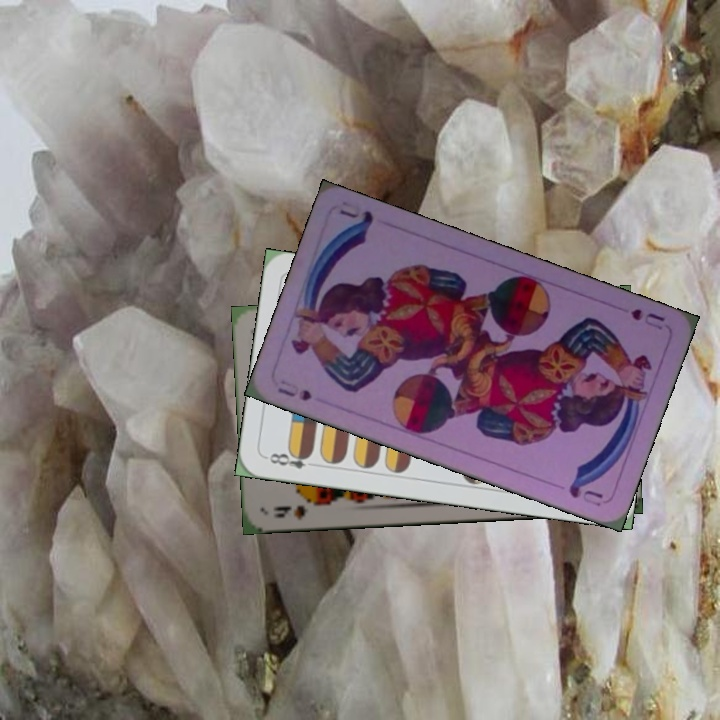E8: (262, 446, 321, 472)
S9: (269, 495, 325, 522)
SU: (626, 304, 668, 333), (273, 376, 314, 404)
